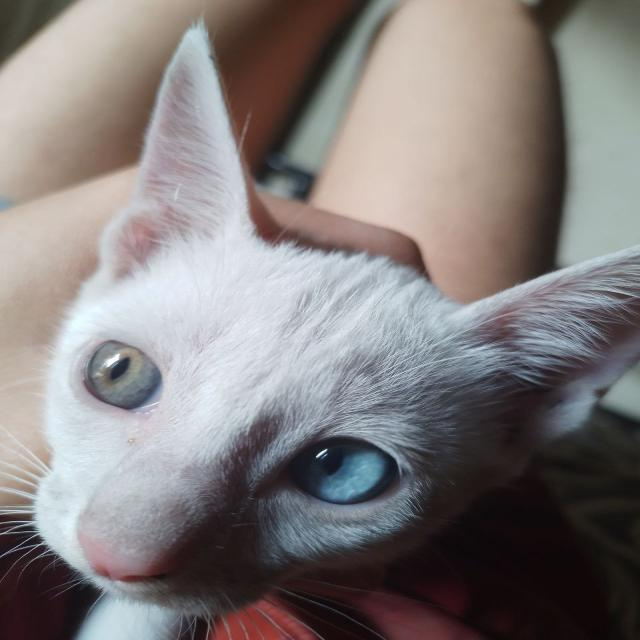da khoe manh: (177, 237, 406, 414)
